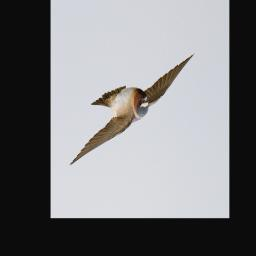Swallow: (68, 55, 195, 170)
